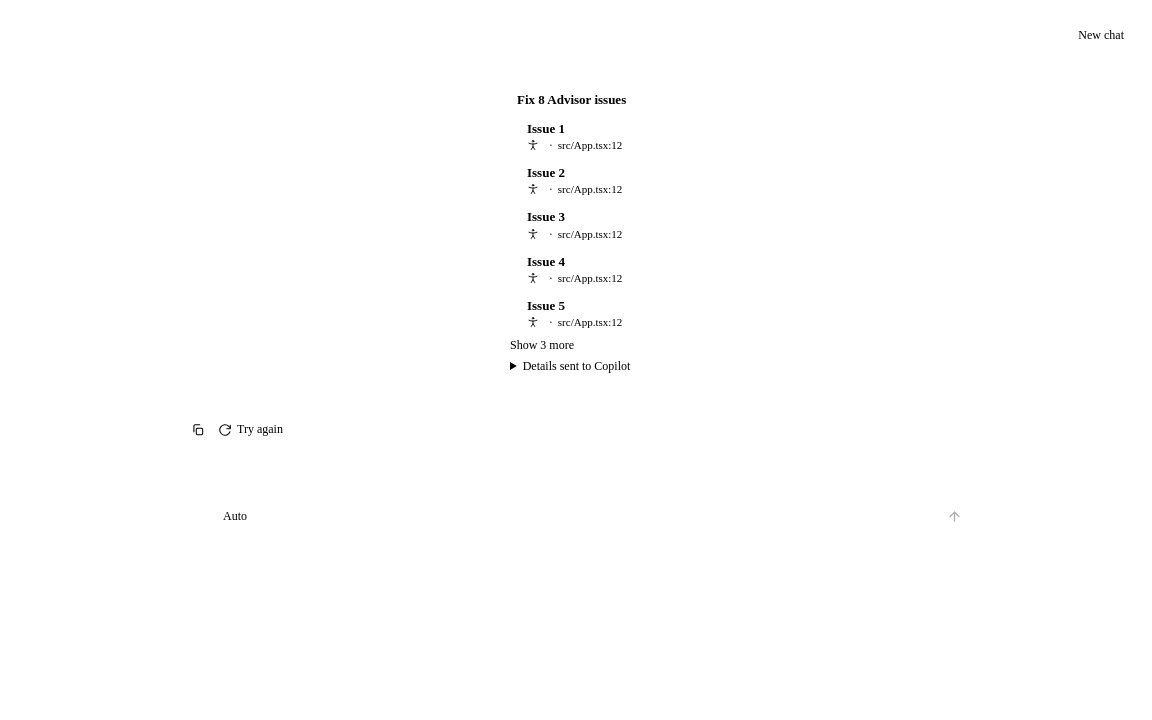
Test case: ChatPanel Advisor fixes › folds a long list behind “Show more”
The width and height of the screenshot is (1152, 720).
Expected: the number of elements with class "adv-fix-row" is 5, [527,121,622,151]; [527,165,622,195]; [527,209,622,240]; [527,254,622,284]; [527,298,622,328]
Click the button "Show 3 more". click: (542, 345)
box: [510,336,574,355]
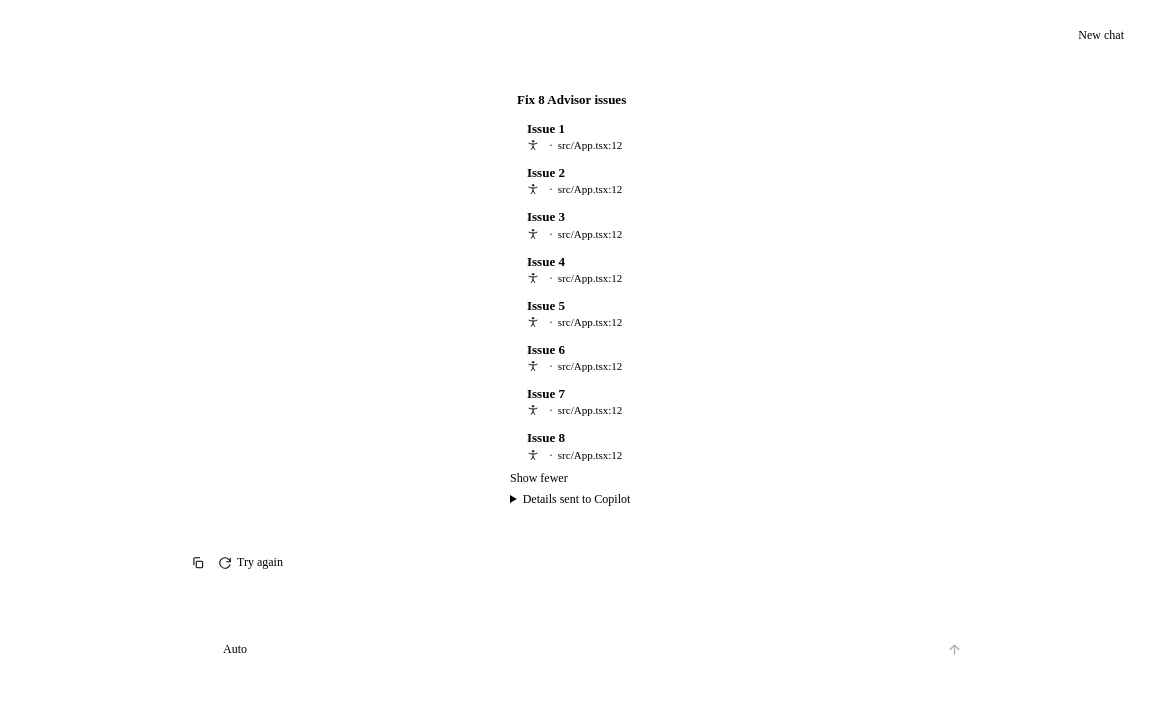
Now the number of elements with class "adv-fix-row" is 8
Now the button "Show fewer" is shown, box [510,468,568,488]
